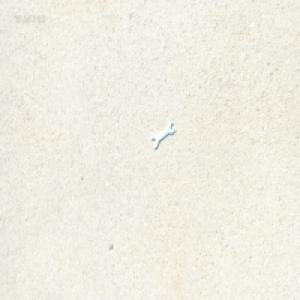Wrench: (152, 120, 174, 149)
